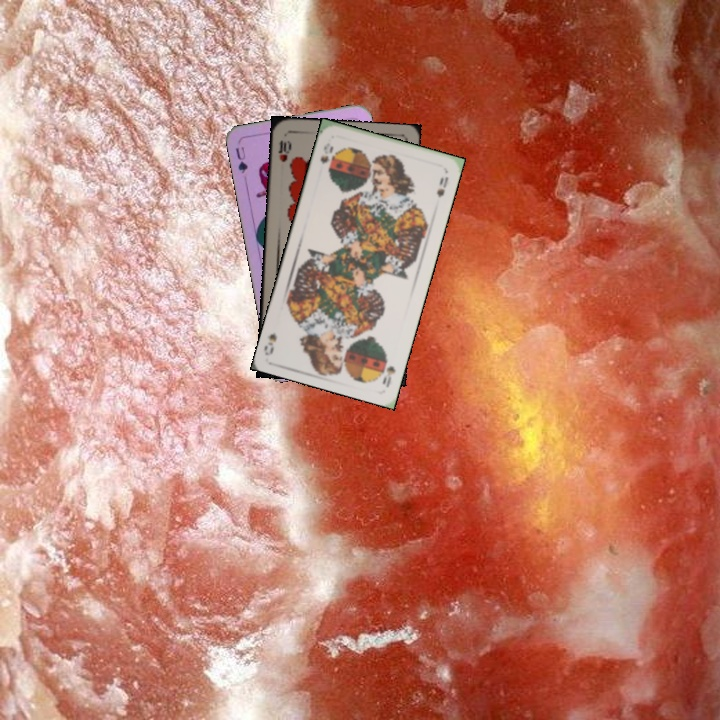GU: (231, 142, 251, 176)
H10: (274, 136, 293, 164)
SO: (378, 361, 398, 390), (316, 139, 336, 167)
